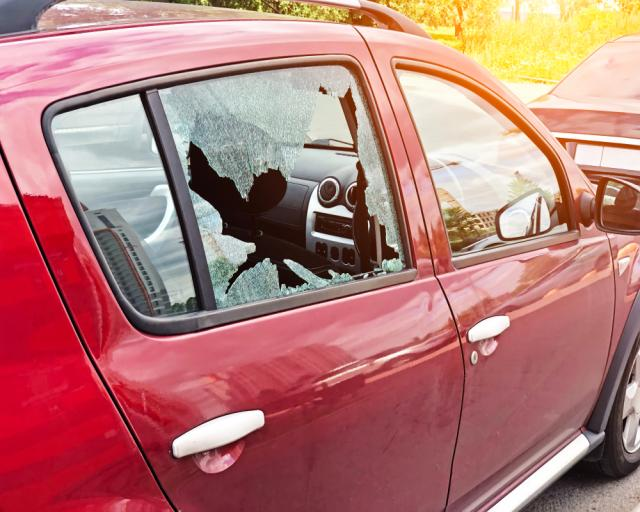glass shatter: (157, 63, 410, 309)
